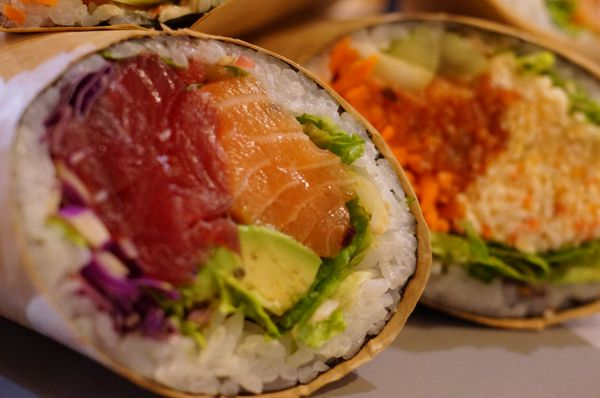soup: (317, 13, 600, 327)
